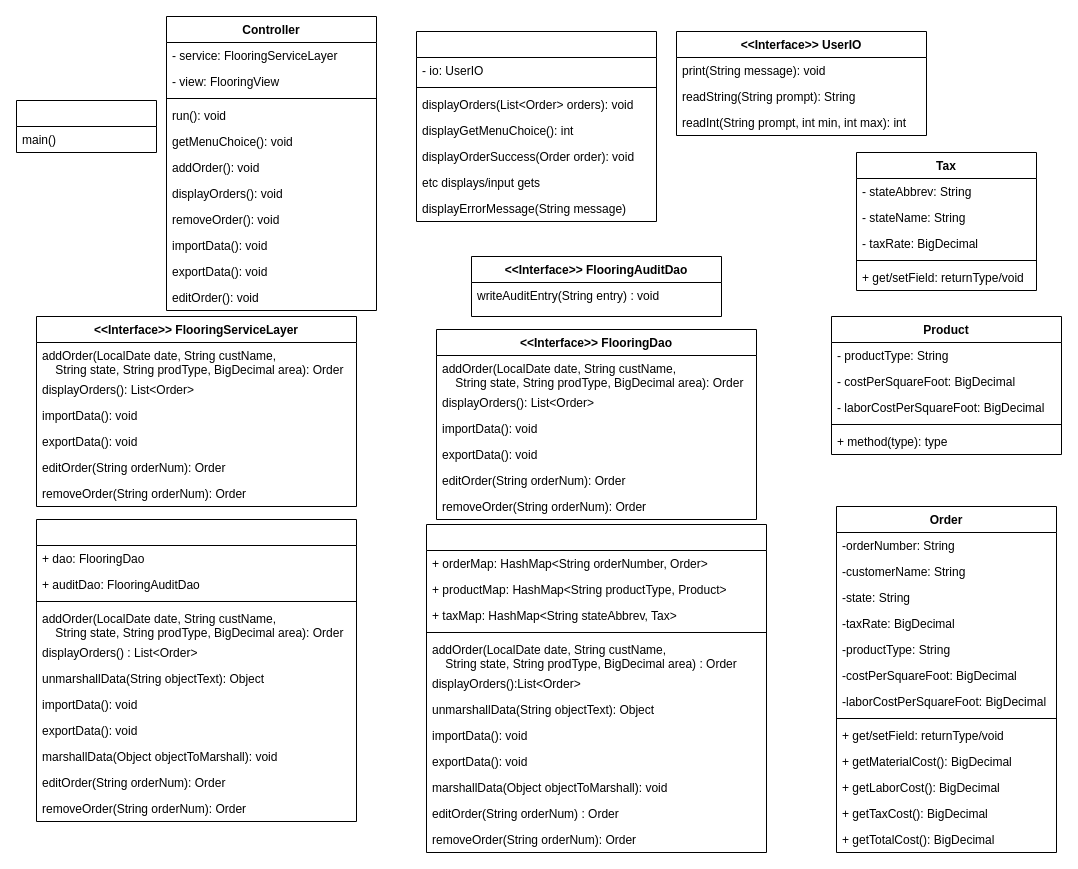
This 1078x869 diagram has some shape labels left out. The box of each missing label's shape, as (x1, y1, x2, y2) in pixels:
App: (16, 100, 156, 152)
FlooringDaoFileImpl: (426, 524, 766, 852)
FlooringServiceLayerImpl: (36, 518, 356, 822)
FlooringView: (416, 30, 656, 222)
